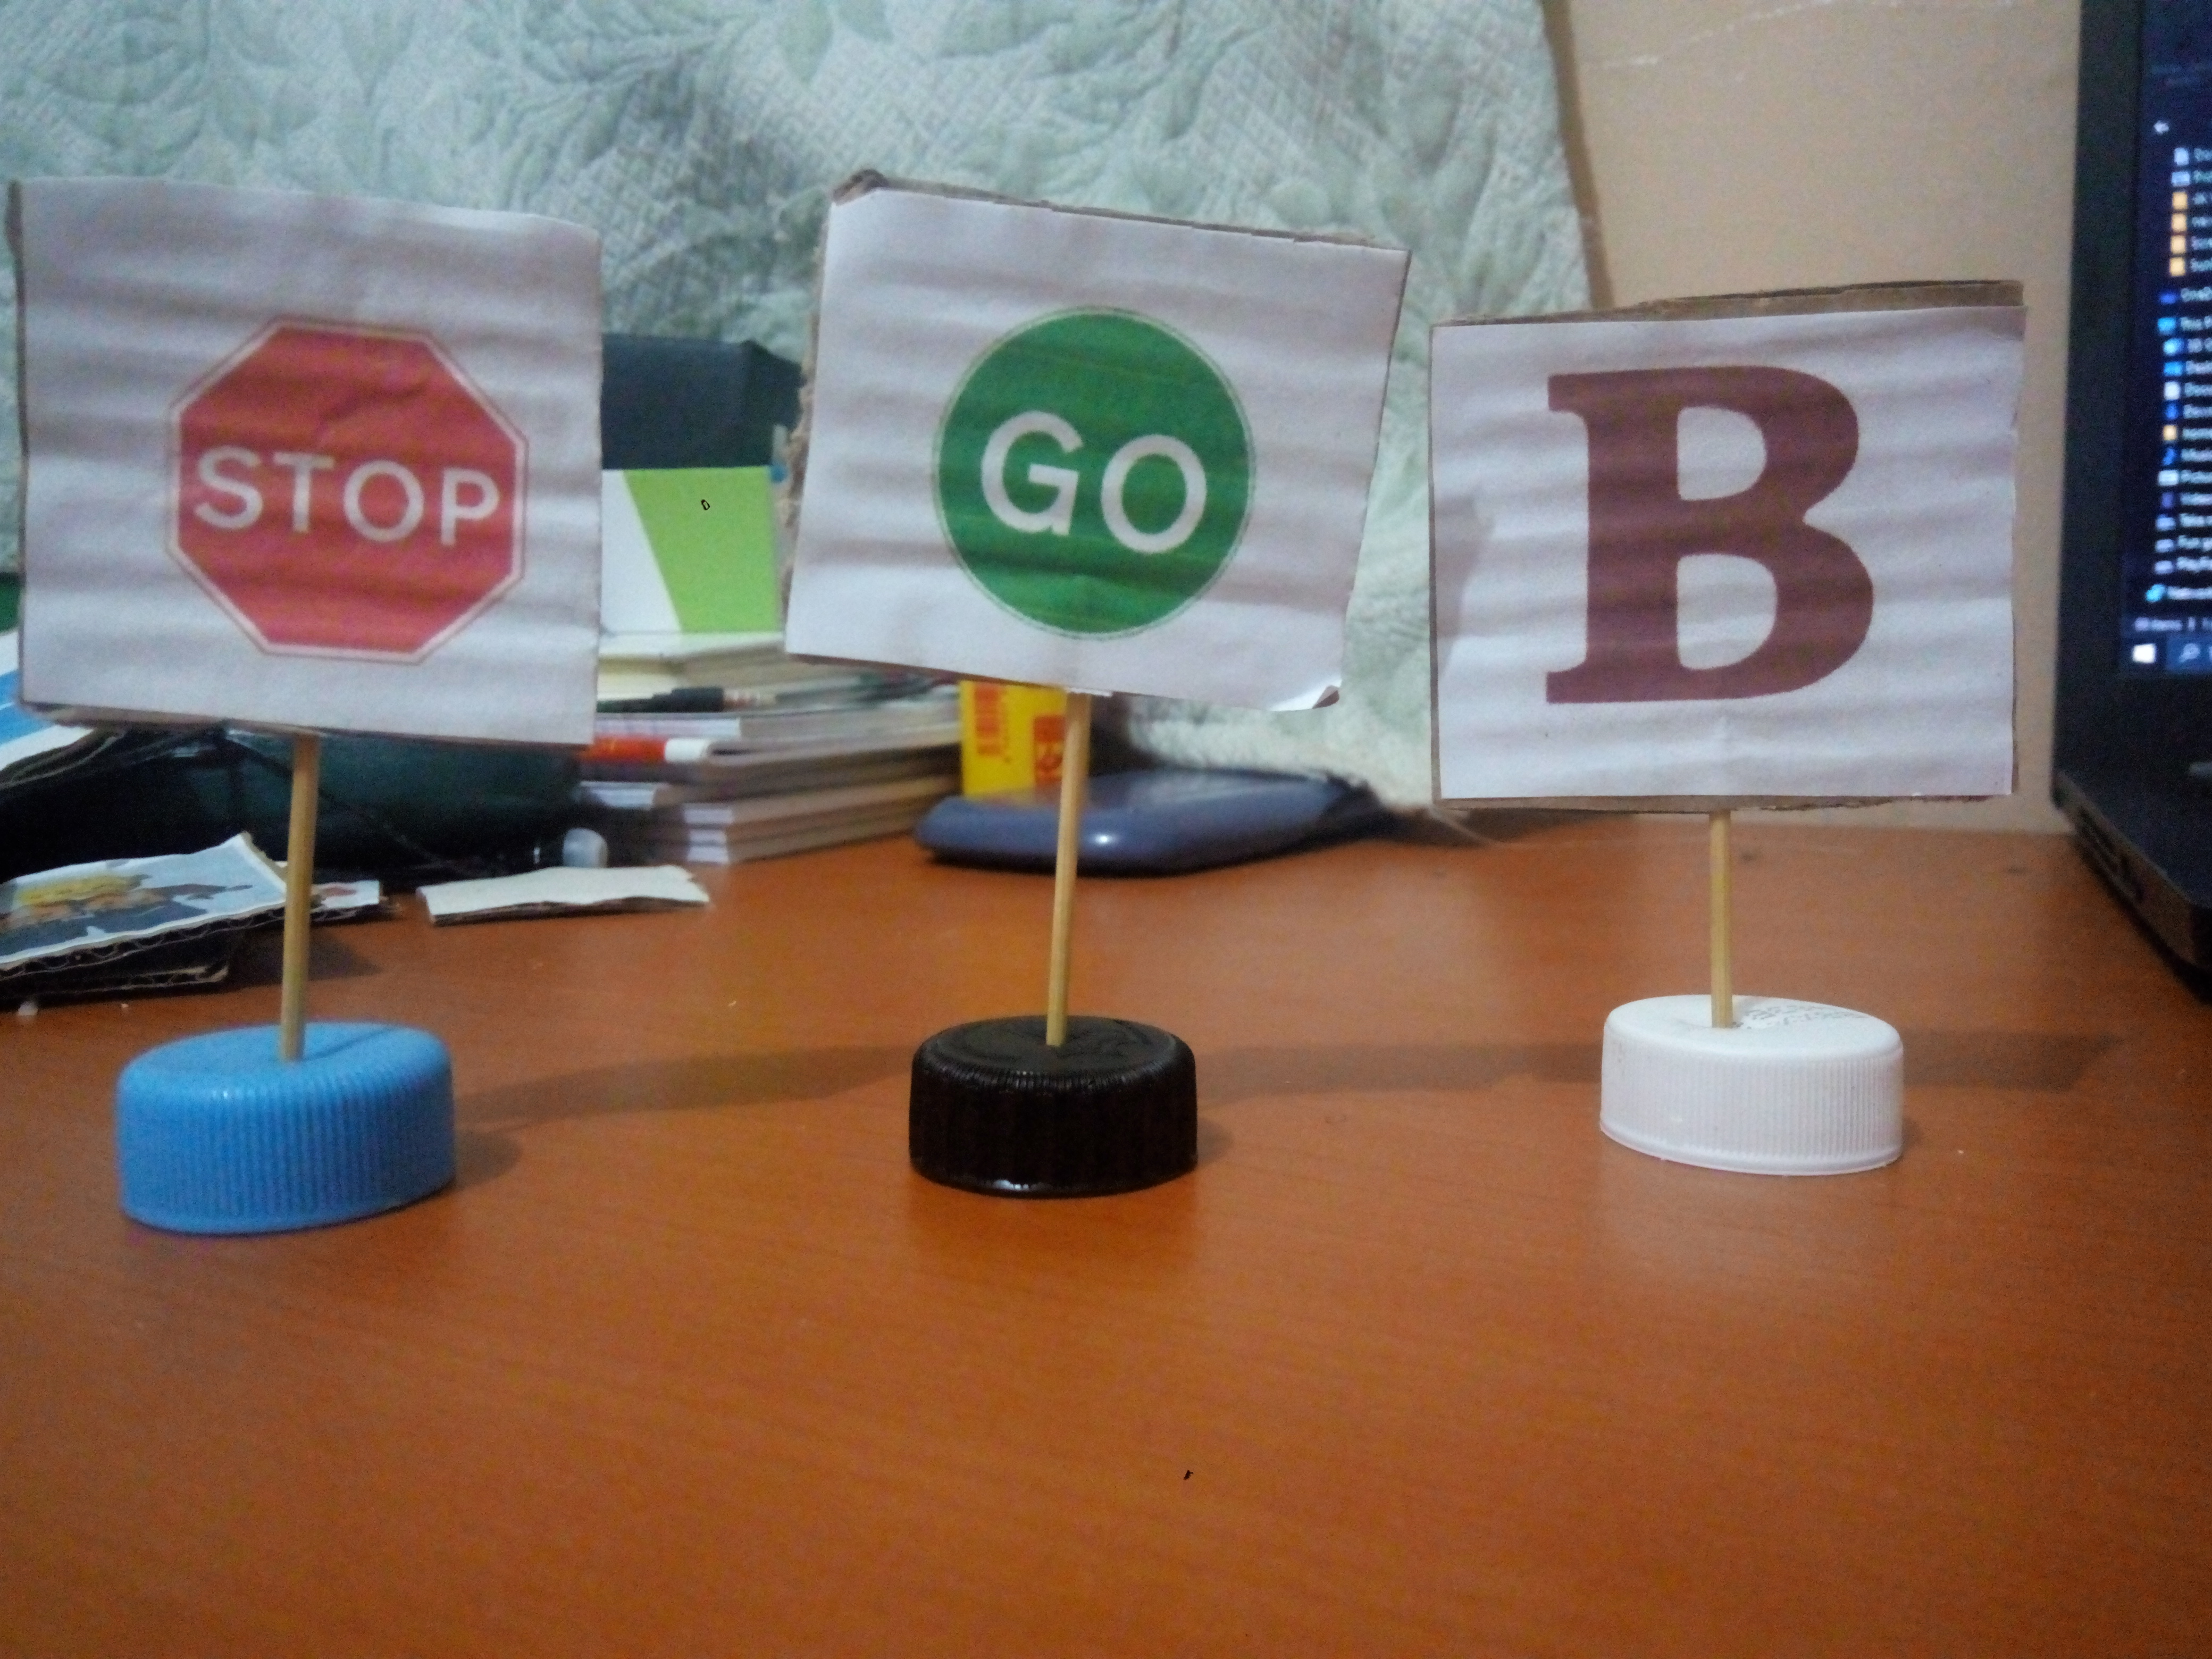go: (921, 251, 1289, 673)
stop: (129, 254, 568, 713)
zone B: (1514, 355, 1937, 735)
